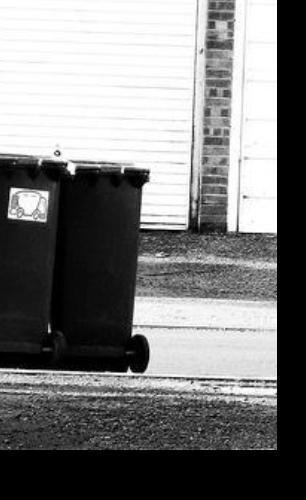Bote de Basura: (63, 150, 151, 373), (0, 153, 69, 363)
